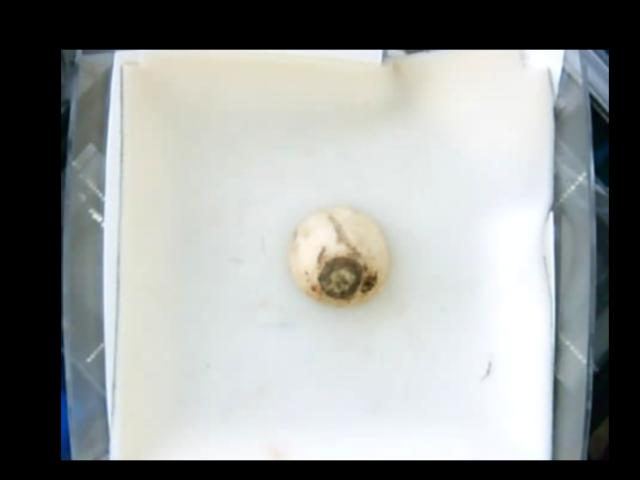Mooli: (290, 207, 388, 307)
